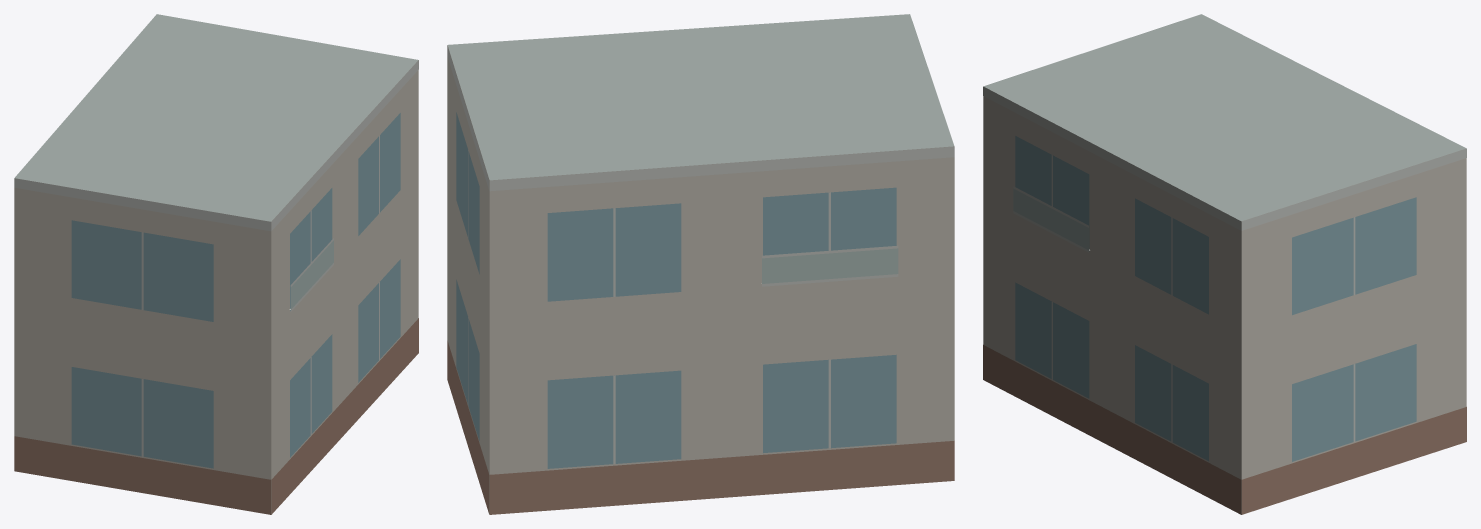
File: survey-upis-32583395.glb
3 renders of one model, left to right at view 1: azimuth 30°, elevation 25°; view 2: azimuth 150°, elevation 25°; view 3: azimuth 270°, elevation 25°, orthographic. The views are drawn at different scales.
Parts seen in each view (by area): view 1: survey-upis-32583395.tmp; view 2: survey-upis-32583395.tmp; view 3: survey-upis-32583395.tmp.
Part boxes in pixels (box(x1,y1,x2,y2)): survey-upis-32583395.tmp: box(14, 14, 418, 514); survey-upis-32583395.tmp: box(447, 14, 954, 514); survey-upis-32583395.tmp: box(983, 14, 1466, 514).
Bounding box in the file's own units: 11.38 × 7.5 × 11.21.
